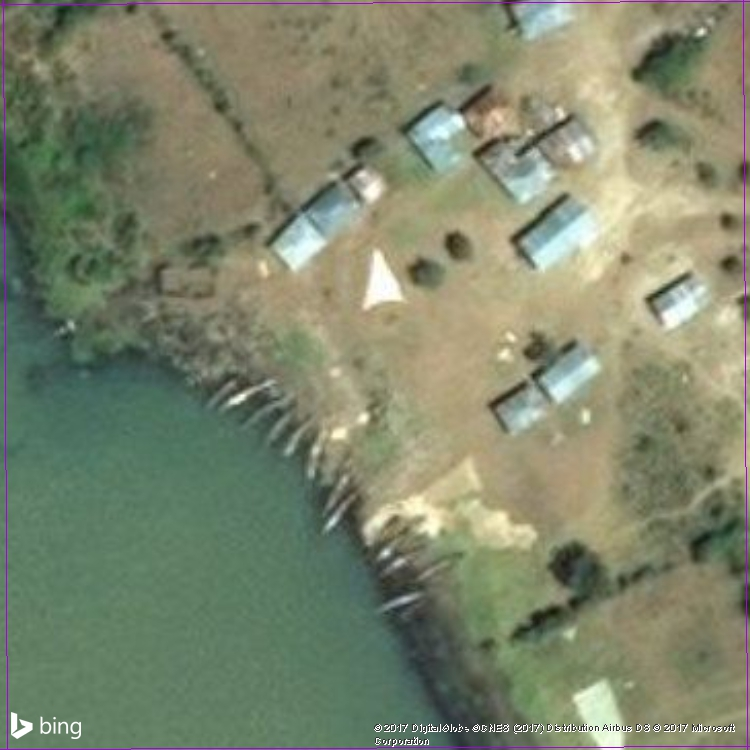boat: (233, 385, 302, 432), (215, 378, 282, 414), (193, 375, 246, 416), (409, 549, 466, 587), (318, 488, 360, 539), (377, 541, 426, 584), (317, 468, 356, 522), (258, 403, 299, 454), (280, 408, 319, 461), (367, 587, 431, 619), (369, 527, 410, 570), (304, 433, 326, 485)
